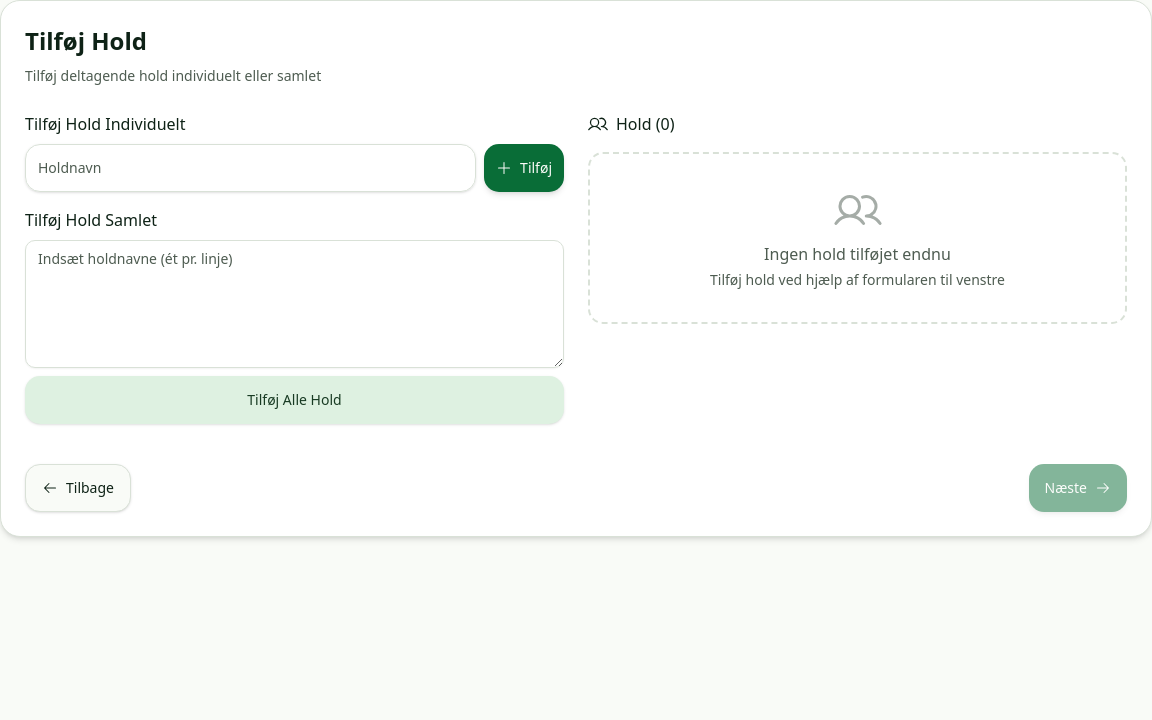
Test: Step2Teams › adds a team when pressing Enter in the input
This screenshot has width=1152, height=720.
In the field labelled "Tilføj Hold Individuelt": [251, 168] box left=25, top=144, right=476, bottom=192, type "Tigers"
Then press Enter
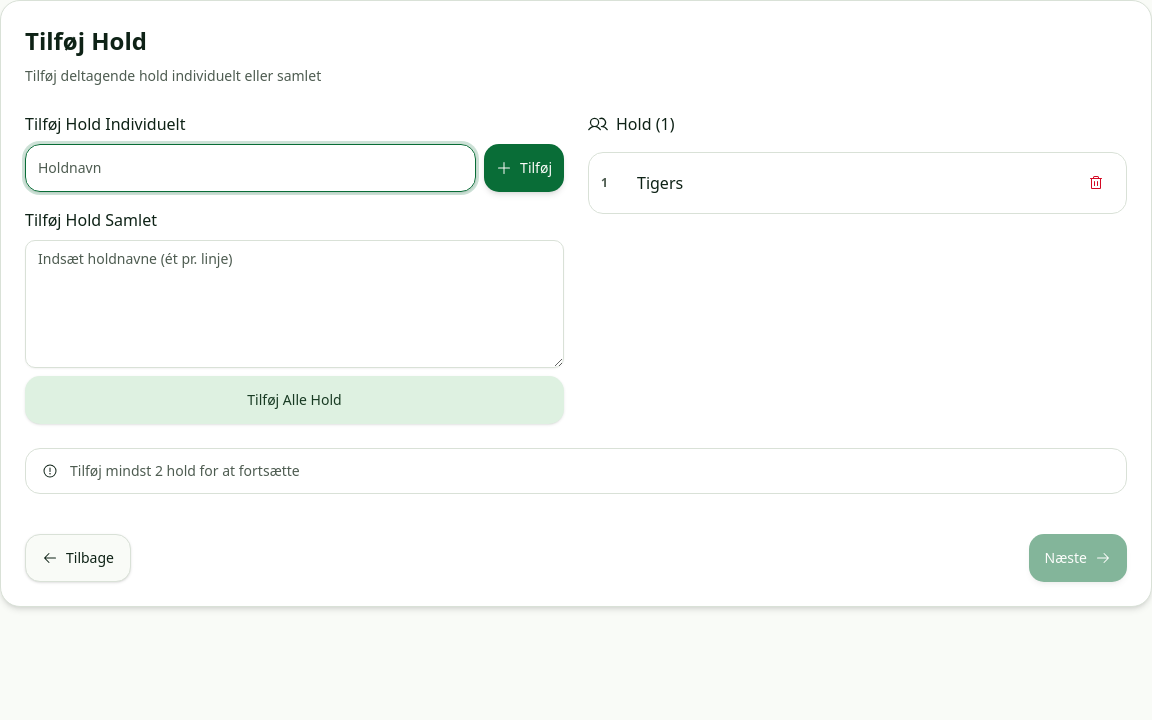
Expected: the text "Tigers" is shown, left=637, top=171, right=683, bottom=195
Expected: the text "Hold (1)" is shown, left=588, top=112, right=674, bottom=136
